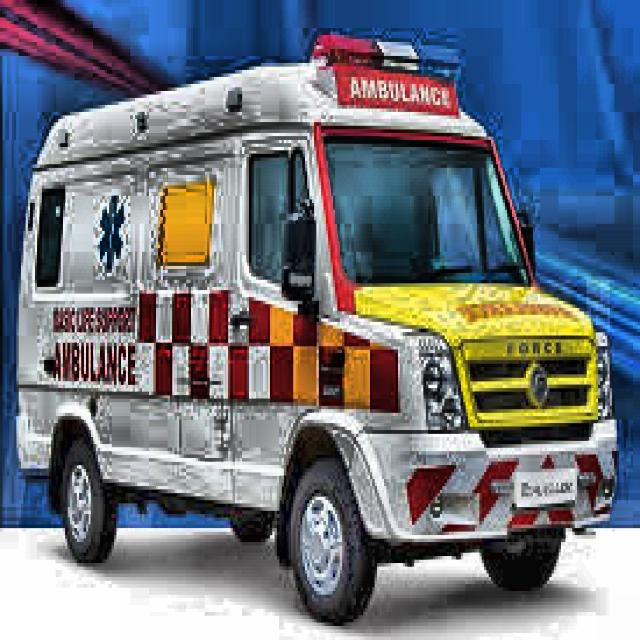Ambulance: (19, 35, 612, 619)
